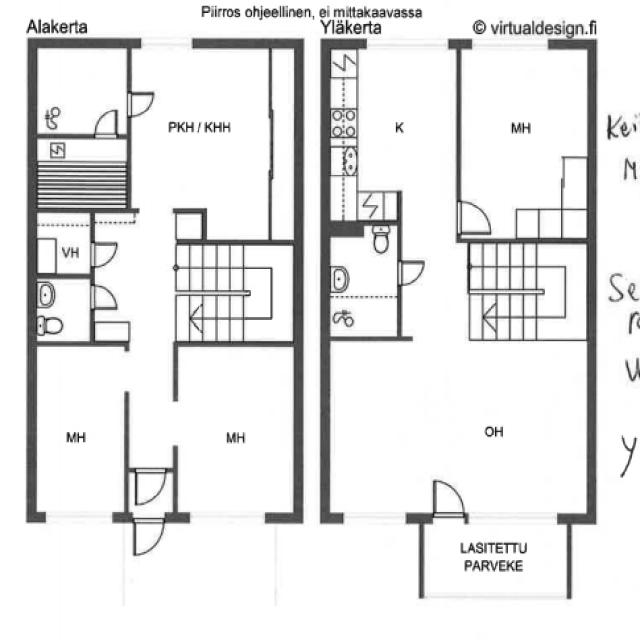door: (424, 474, 472, 525), (450, 195, 496, 240), (129, 464, 169, 508), (130, 514, 168, 560), (86, 237, 123, 272), (122, 86, 159, 120), (394, 257, 428, 288), (92, 104, 122, 139), (88, 282, 120, 314)
window: (182, 503, 276, 533), (462, 504, 566, 530), (333, 502, 415, 534), (466, 32, 554, 58), (359, 36, 449, 57), (39, 507, 117, 530), (136, 31, 200, 53)
zone: (326, 339, 596, 518), (127, 43, 278, 234), (458, 44, 590, 239), (173, 342, 299, 516), (326, 45, 459, 206), (32, 337, 127, 519), (34, 44, 130, 138), (324, 222, 400, 338), (29, 134, 133, 214), (32, 277, 92, 344), (33, 212, 94, 274)
